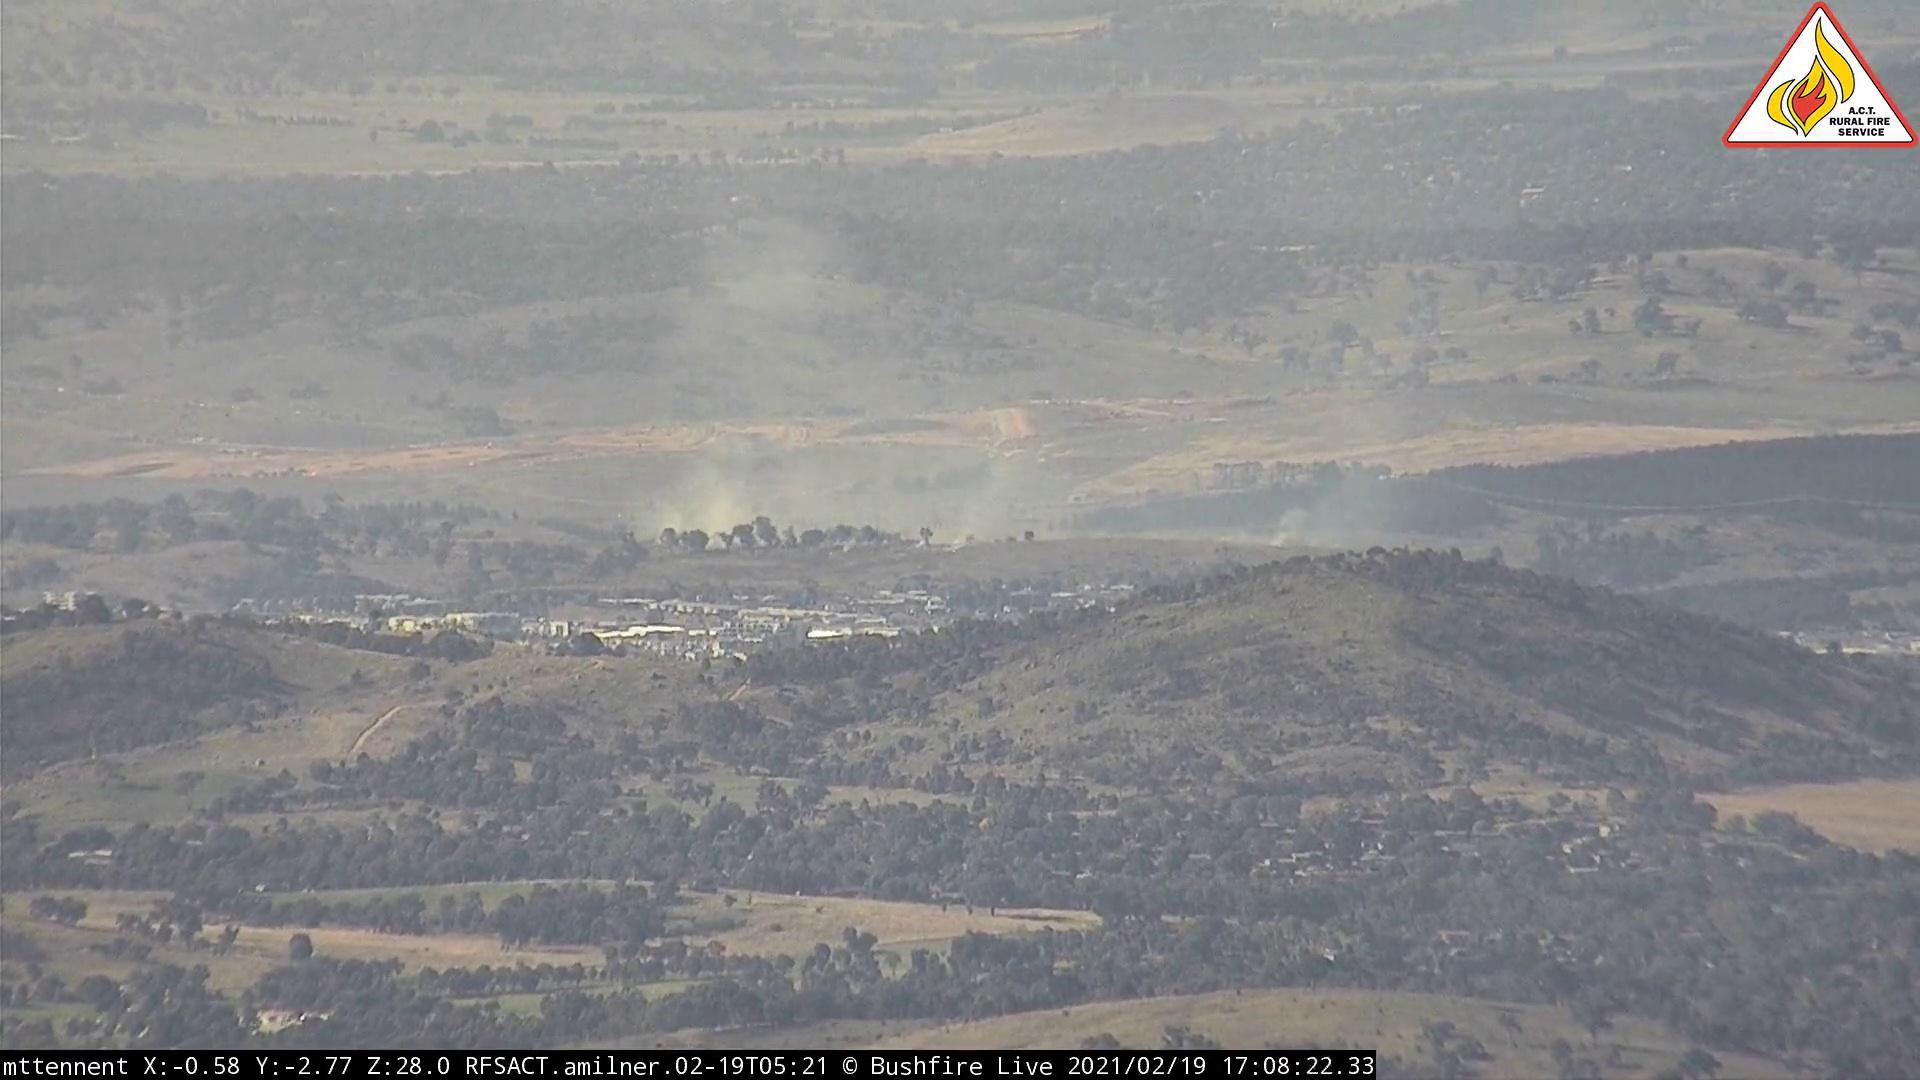Smoke: (636, 241, 1043, 559), (1251, 442, 1428, 559)
